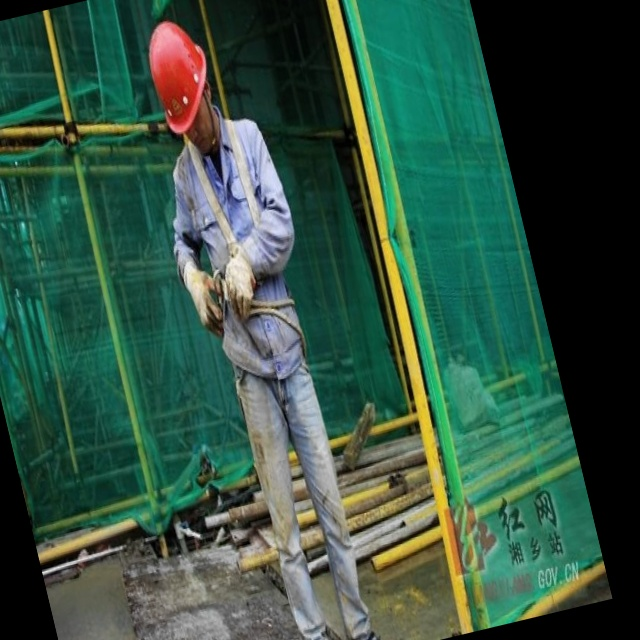Con_Casco: (142, 17, 230, 157)
